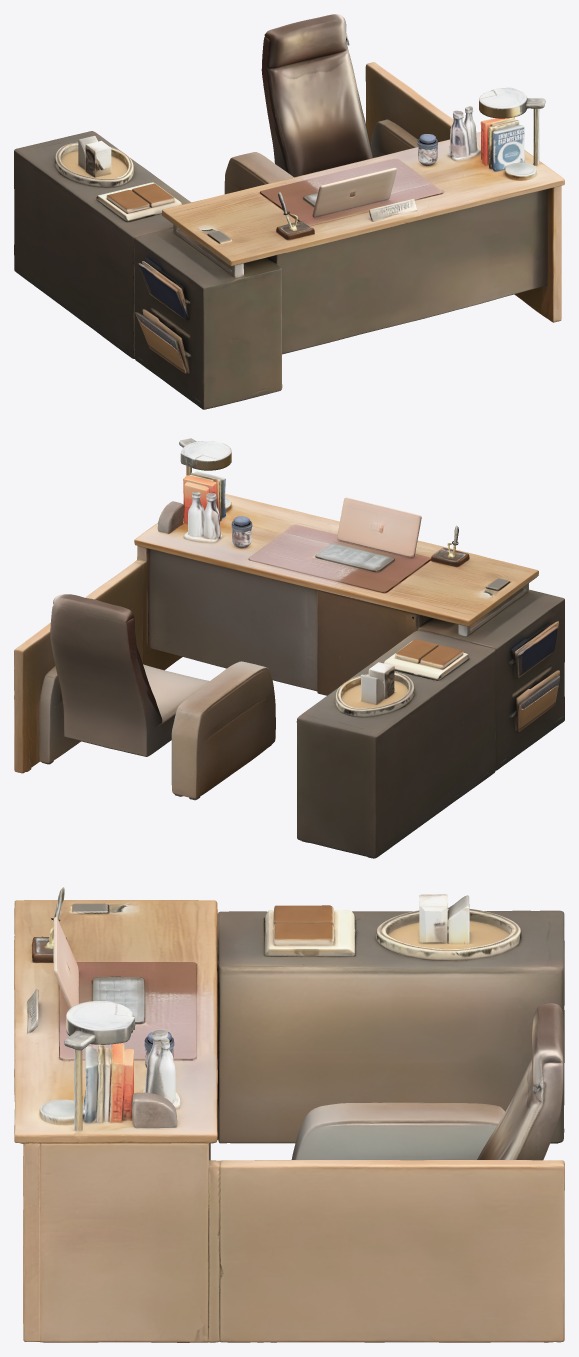
3 renders of one model, top to bottom at view 1: azimuth 30°, elevation 25°; view 2: azimuth 150°, elevation 25°; view 3: azimuth 270°, elevation 25°, orthographic. The views are drawn at different scales.
Parts seen in each view (by area): view 1: model; view 2: model; view 3: model.
Part boxes in pixels (x1,y1,x2,y2): model: (14,14,564,409); model: (14,438,564,858); model: (14,887,564,1342).
Bounding box in the file's own units: 1.9 × 1.03 × 1.68.
Materials: 1 (1 with a texture image).
